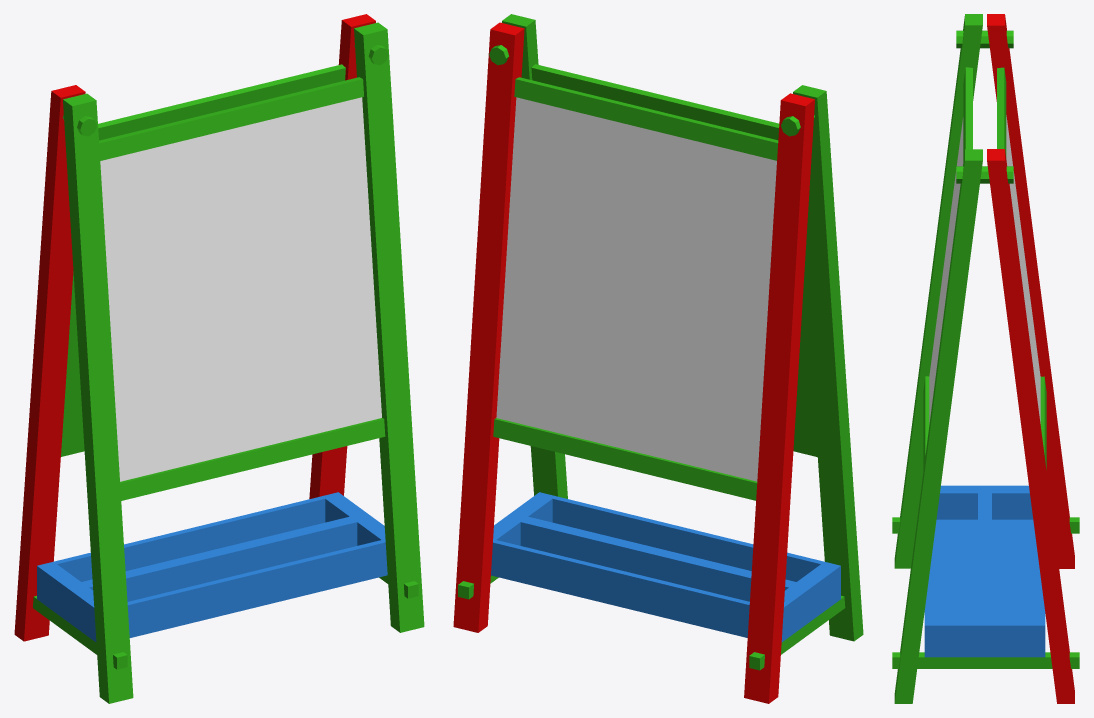
File: White board.fbx
The picture shows the model from 3 angles, left to right: view 1: azimuth 30°, elevation 25°; view 2: azimuth 150°, elevation 25°; view 3: azimuth 270°, elevation 25°; orthographic projection. The views are drawn at different scales.
Parts seen in each view (by area): view 1: White board; view 2: White board; view 3: White board.
Boxes of the visible parts, <box> form: White board: <box>14,14,424,703</box>; White board: <box>453,14,863,703</box>; White board: <box>892,14,1079,703</box>.
Size of the model in its own units: 62.35 by 108 by 33.63.
